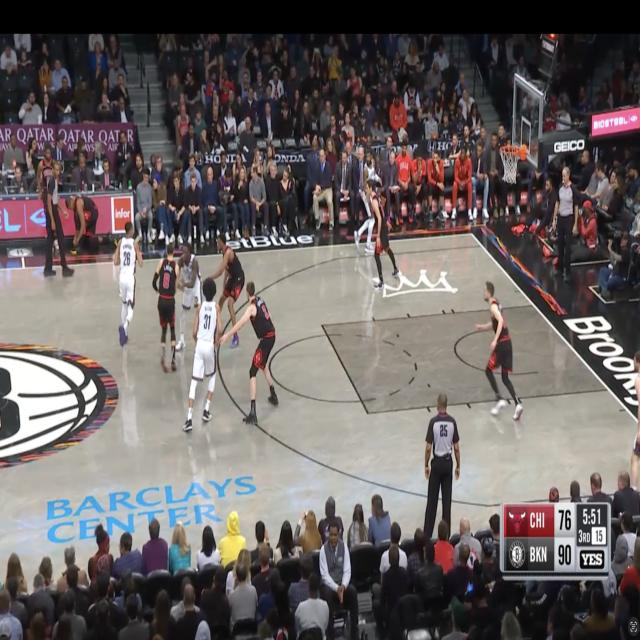no foul: (99, 214, 288, 436)
